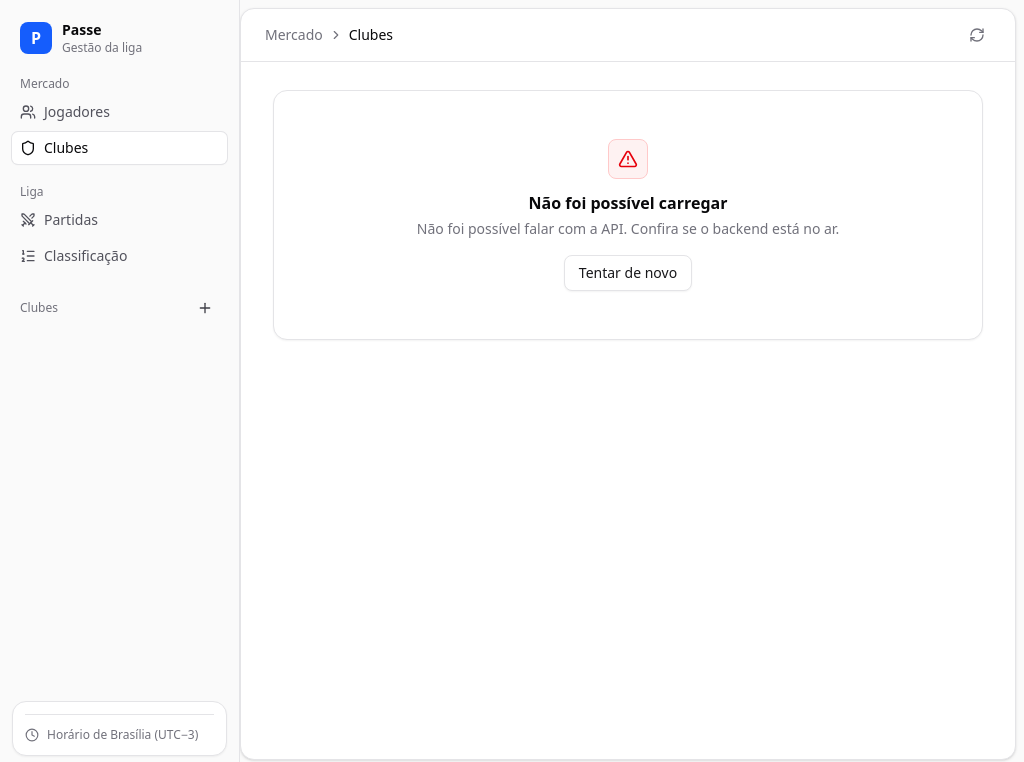
Test: ClubPage › mostra o erro e tenta de novo
The image size is (1024, 762).
Expected: the message is shown, [417,139,839,291]
What coordinates should you click on to do the following:
click the button "Tentar de novo"
I would click on:
 (628, 273)
Its box is [564,255,692,291].
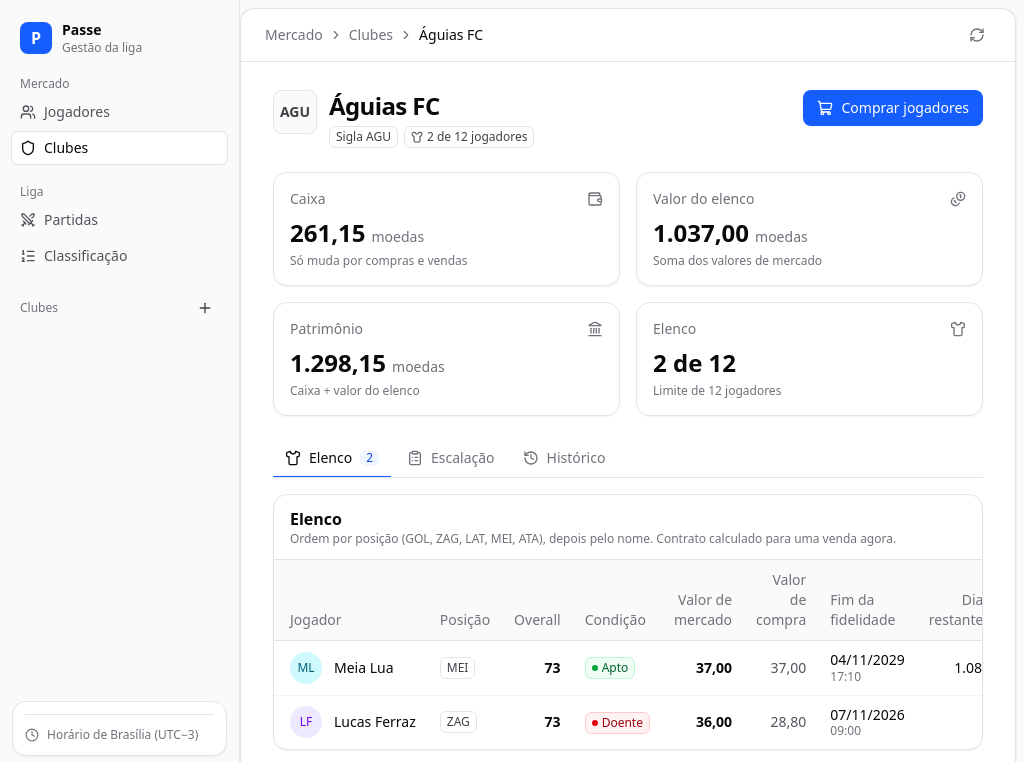
Expected: the heading "Águias FC" is shown, [329,89,440,122]
